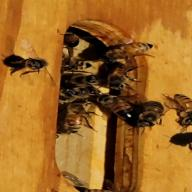Bee: (79, 32, 169, 60), (64, 95, 100, 142), (163, 86, 192, 133)
